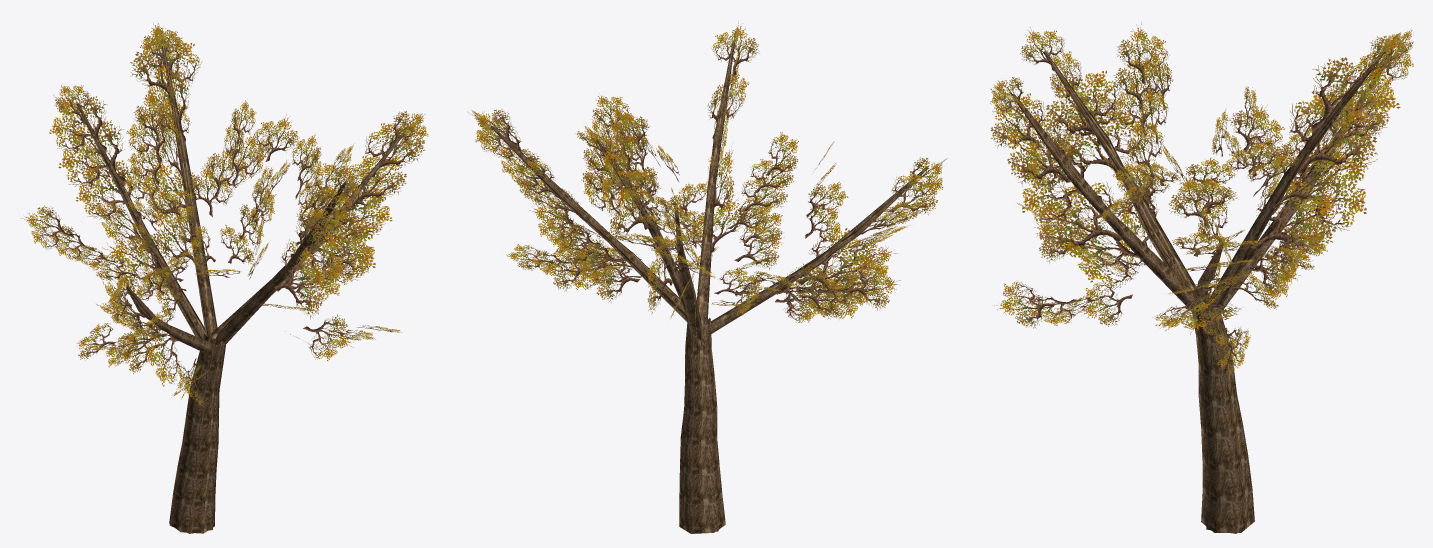
File: far.glb
The picture shows the model from 3 angles, left to right: view 1: azimuth 30°, elevation 25°; view 2: azimuth 150°, elevation 25°; view 3: azimuth 270°, elevation 25°; orthographic projection. The views are drawn at different scales.
Visible parts, largest first — view 1: lod1, lod2; view 2: lod1, lod2; view 3: lod1, lod2.
Part boxes in pixels (x1=…): lod1: x1=21, y1=22, x2=415, y2=533; lod2: x1=49, y1=23, x2=428, y2=533; lod1: x1=472, y1=22, x2=943, y2=533; lod2: x1=467, y1=27, x2=947, y2=531; lod1: x1=990, y1=23, x2=1413, y2=532; lod2: x1=990, y1=27, x2=1413, y2=533.
Bounding box in the file's own units: 38.55 × 40.71 × 30.6.
2 materials, 2 textured.
